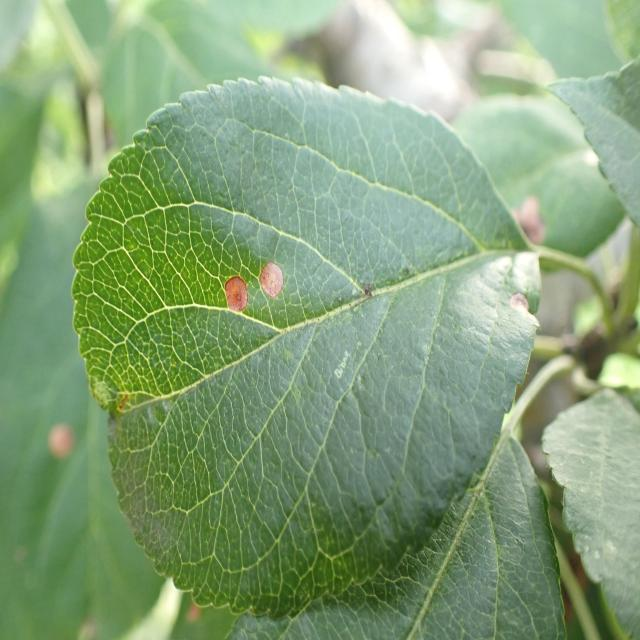Black Rot: (255, 250, 285, 320), (222, 259, 254, 316), (504, 279, 536, 332)
